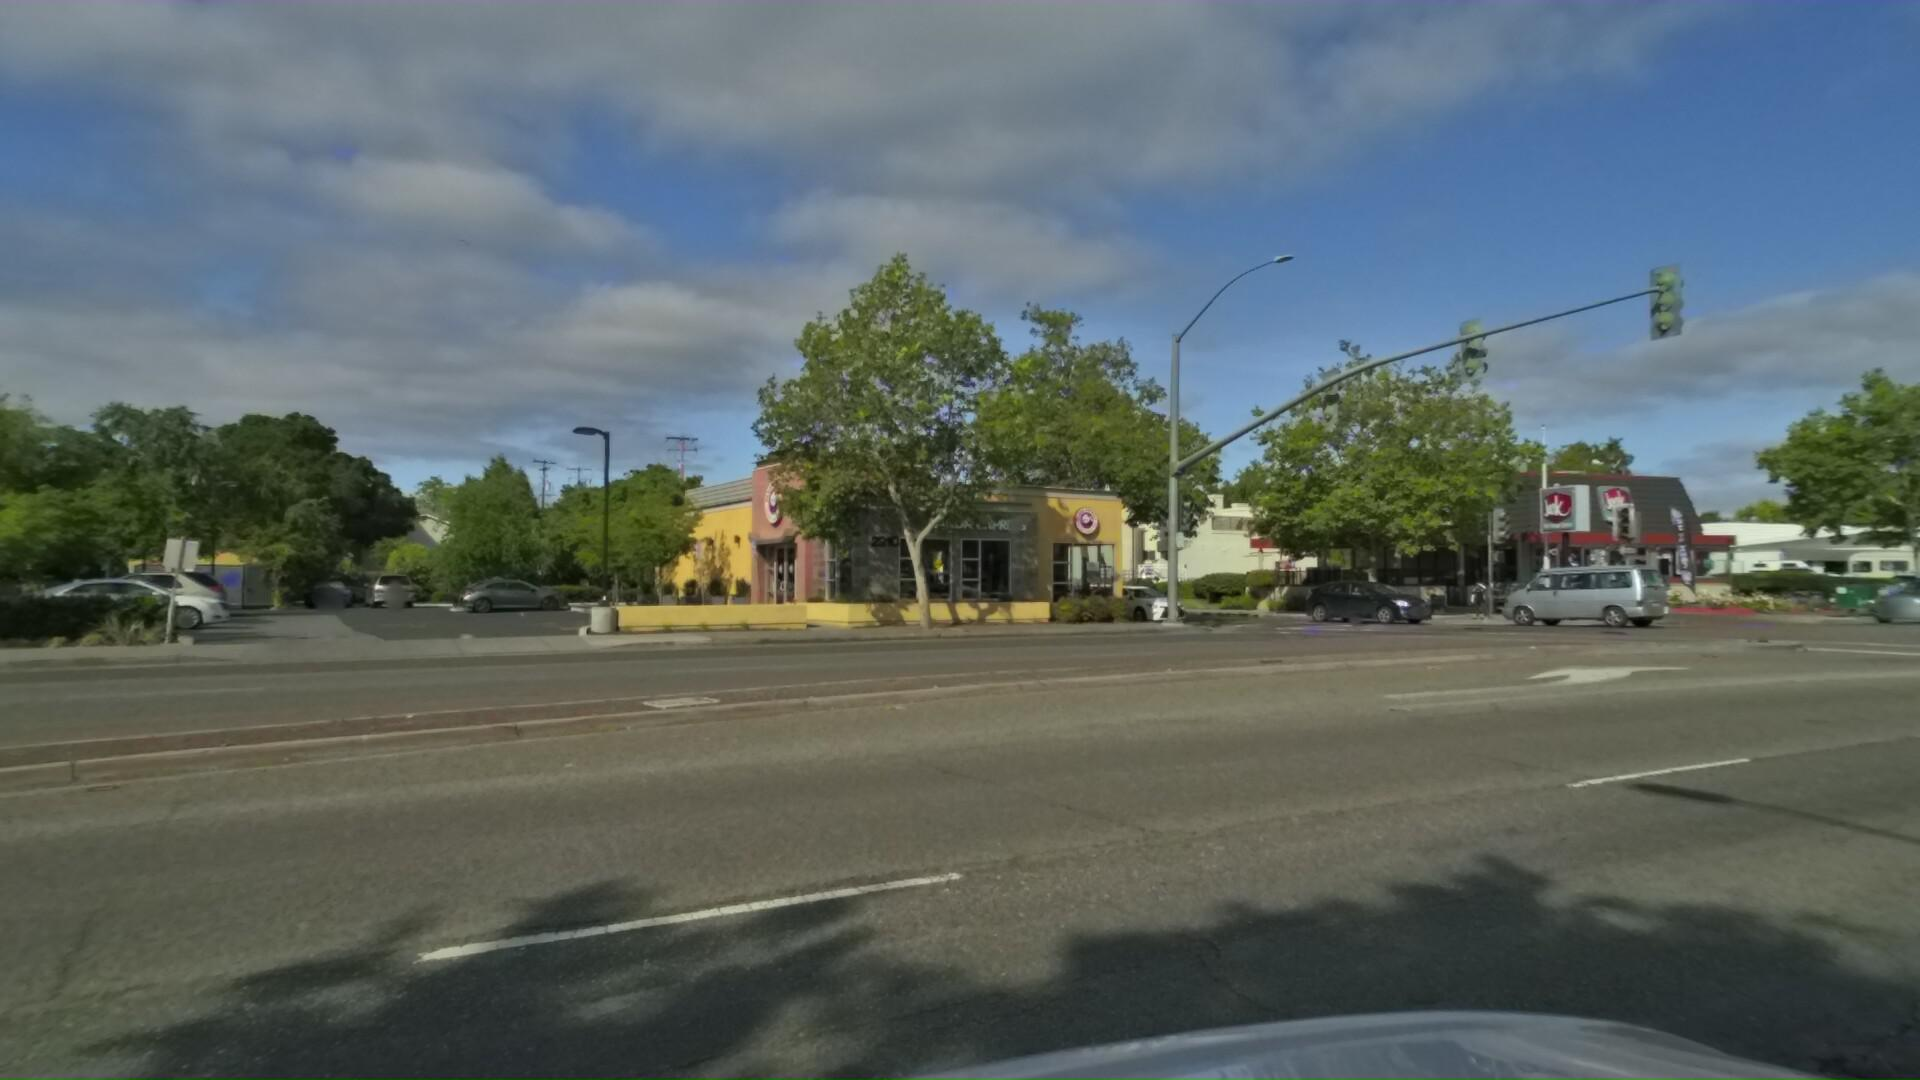car: (1476, 560, 1654, 626), (1288, 578, 1432, 626), (1069, 582, 1185, 626), (1845, 576, 1920, 628), (1731, 554, 1807, 582), (1869, 570, 1920, 599)
other_vehicle: (1818, 546, 1920, 591)
